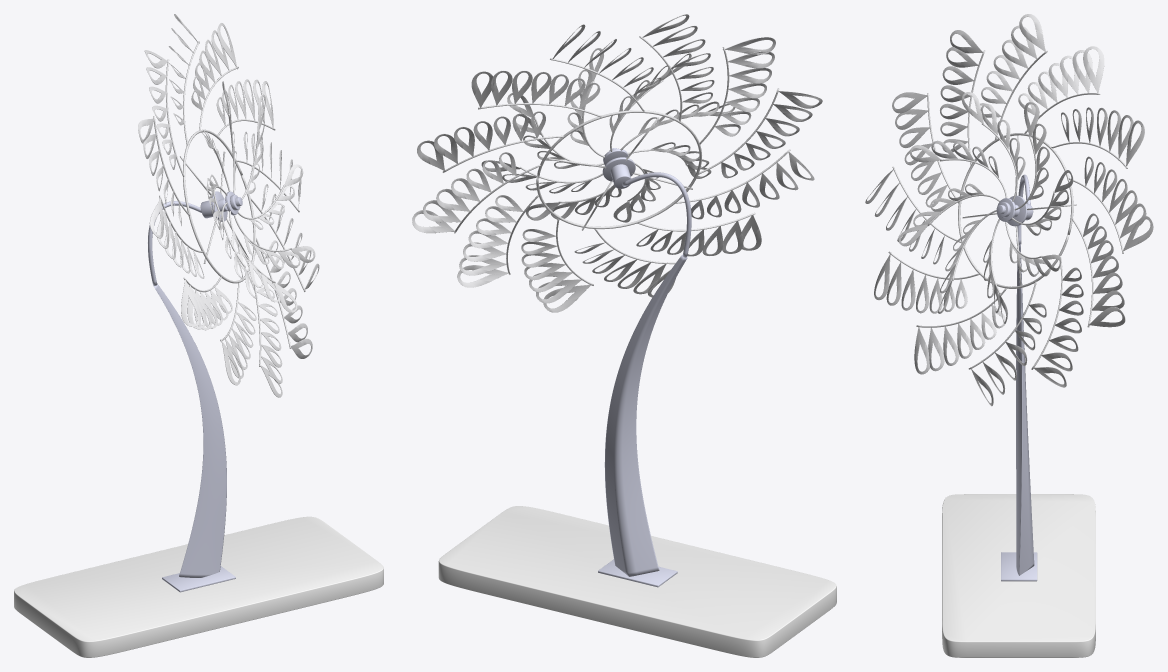
The picture shows the model from 3 angles, left to right: view 1: azimuth 30°, elevation 25°; view 2: azimuth 150°, elevation 25°; view 3: azimuth 270°, elevation 25°; orthographic projection. The views are drawn at different scales.
Visible parts, largest first — view 1: plinth, outer, stem, inner, outer_hoop, foot; view 2: plinth, outer, stem, inner, outer_hoop, foot, arc; view 3: plinth, outer, inner, stem, outer_hoop, foot.
Part boxes in pixels (x1,y1,x2,y2): plinth: (14,516,383,657); outer: (138,14,319,397); stem: (154,284,226,577); inner: (201,81,315,312); outer_hoop: (183,129,256,283); foot: (162,566,235,592); plinth: (438,506,836,657); outer: (412,14,822,312); stem: (604,255,687,576); inner: (481,48,735,222); outer_hoop: (536,110,701,229); foot: (598,559,677,587); arc: (622,172,691,257); plinth: (942,494,1095,657); outer: (865,14,1153,406); inner: (898,92,1073,324); stem: (1016,244,1034,575); outer_hoop: (958,133,1073,288); foot: (1001,552,1037,581).
Size of the model in its own units: 2.53 by 4.31 by 2.06.
